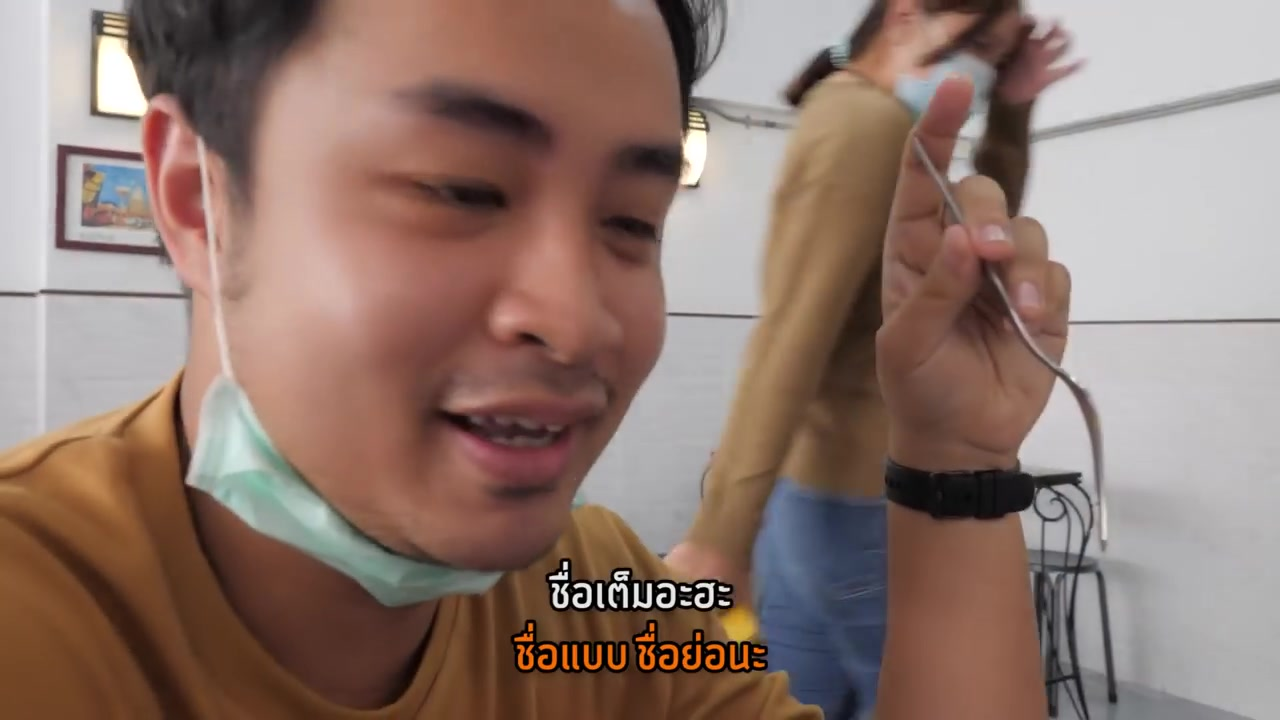text-label: (508, 617, 770, 676), (542, 556, 736, 615)
